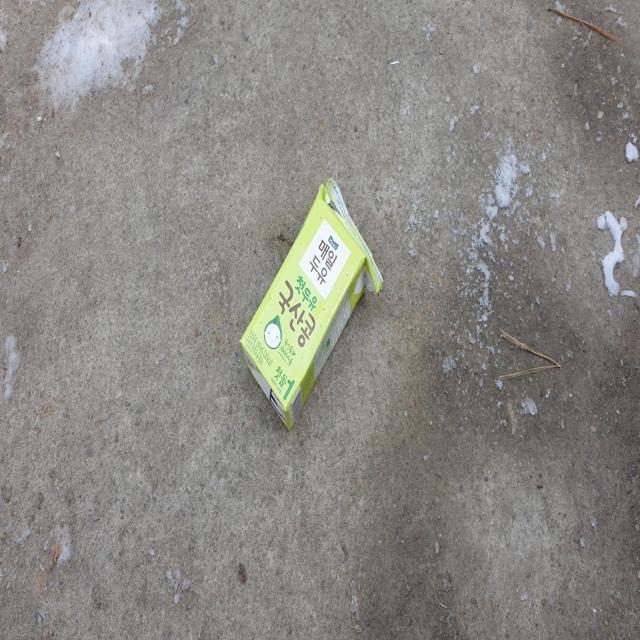paperpack: (240, 177, 383, 429)
